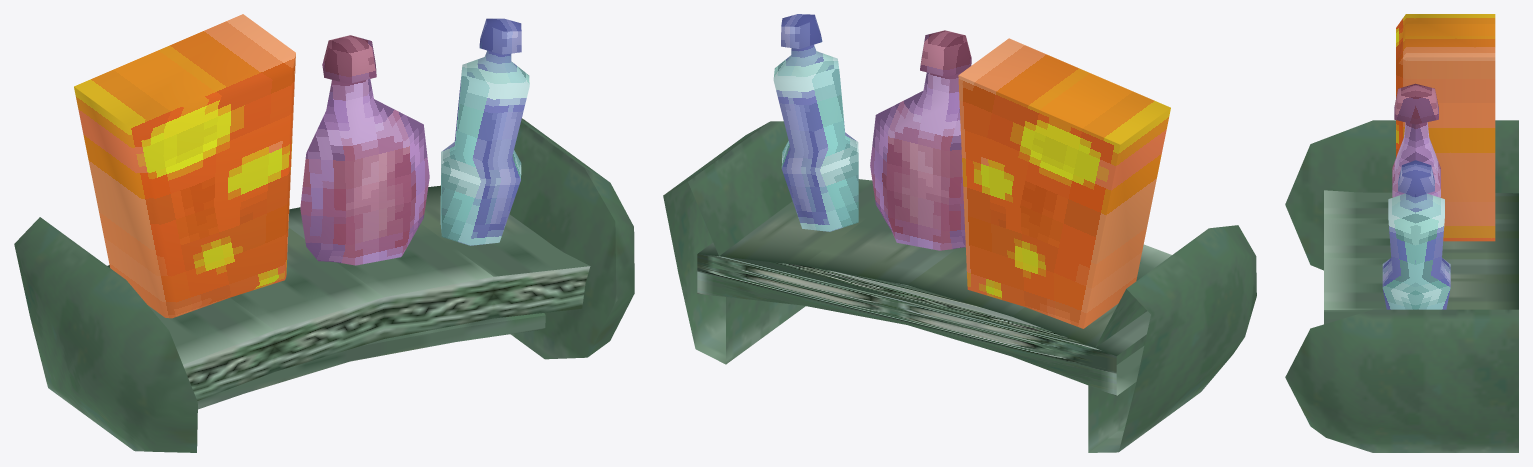
The model's file is tana5_2.glb.
3 renders of one model, left to right at view 1: azimuth 30°, elevation 25°; view 2: azimuth 150°, elevation 25°; view 3: azimuth 270°, elevation 25°, orthographic. The views are drawn at different scales.
Visible parts, largest first — view 1: tana5_2; view 2: tana5_2; view 3: tana5_2.
Part boxes in pixels (x1=…): tana5_2: x1=14, y1=14, x2=634, y2=452; tana5_2: x1=663, y1=14, x2=1256, y2=452; tana5_2: x1=1285, y1=14, x2=1518, y2=452.
Bounding box in the file's own units: 268 × 167 × 120.
Materials: 4 (4 with a texture image).
